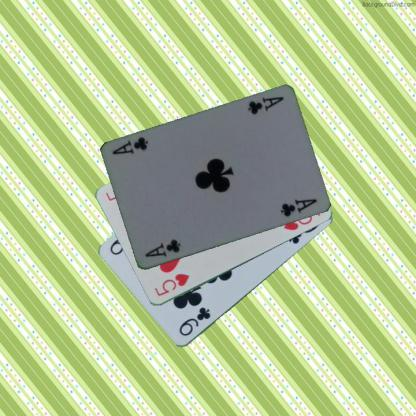5h: (151, 271, 191, 298)
9c: (176, 304, 212, 338)
Ac: (244, 94, 285, 117), (142, 237, 182, 259)
